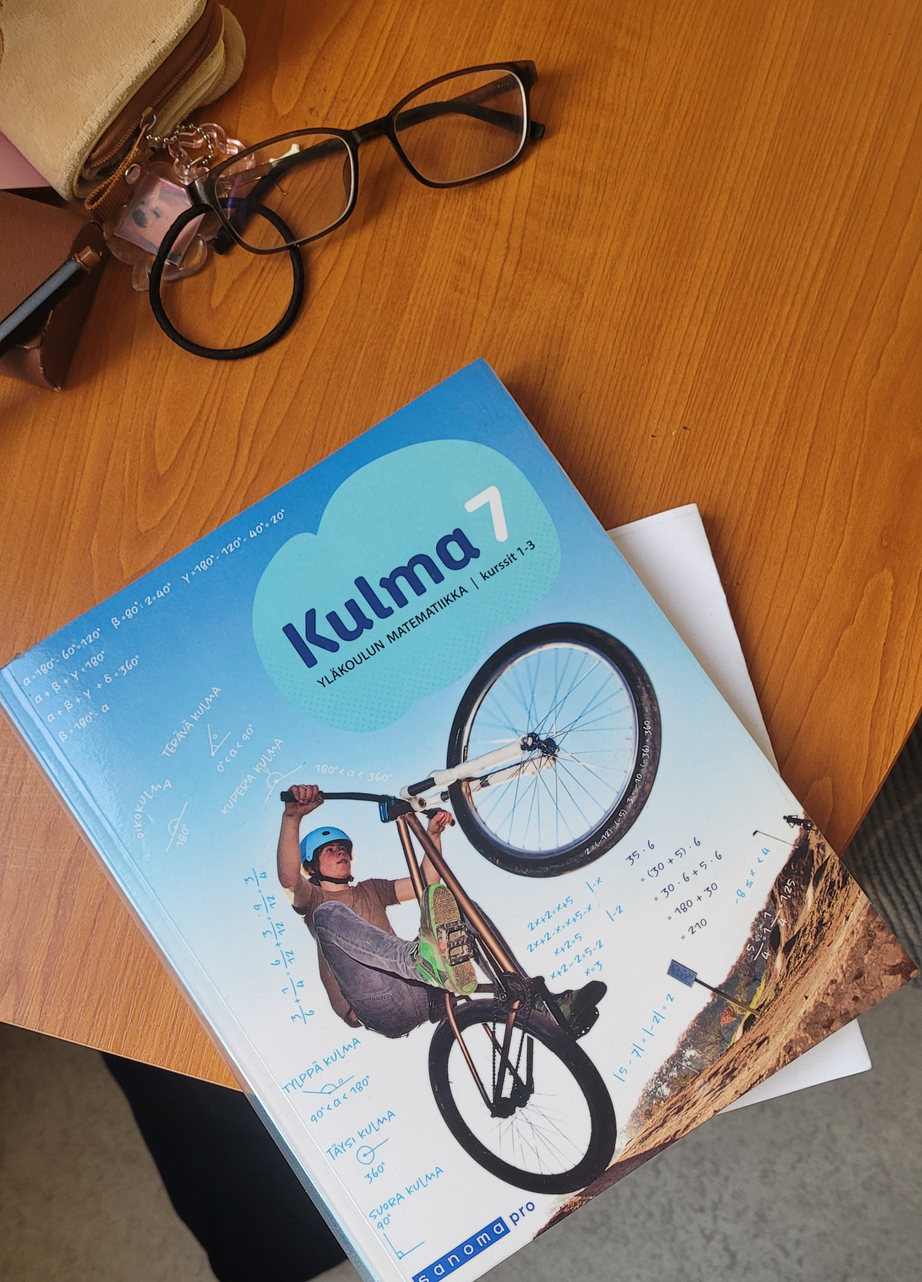paper: (4, 356, 922, 1282)
